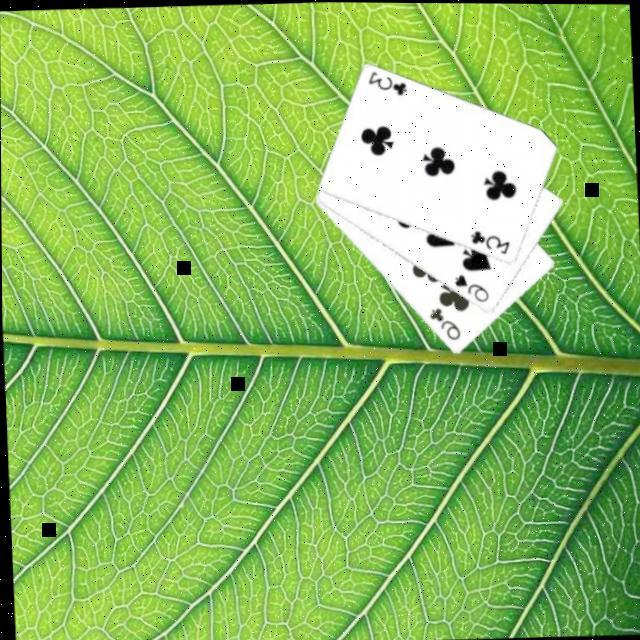3C: (365, 64, 412, 98), (468, 224, 515, 256)
9C: (428, 302, 464, 342)
9S: (452, 268, 492, 304)
